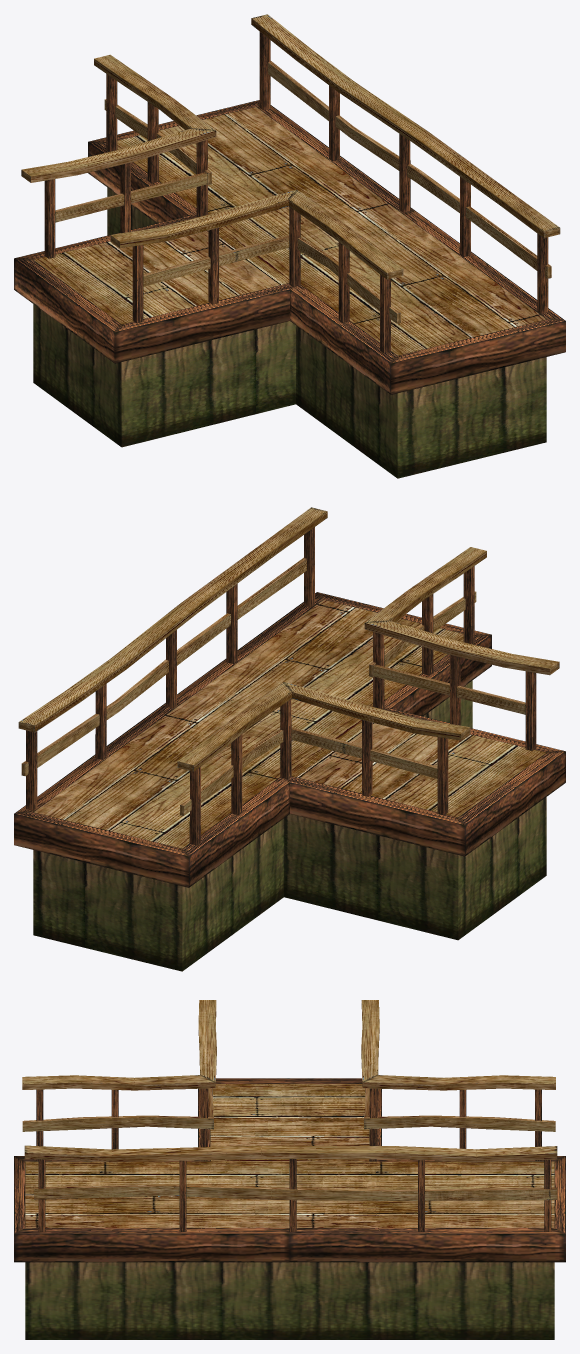
File: INST_WH2_T_BLOCK.fbx
3 renders of one model, top to bottom at view 1: azimuth 30°, elevation 25°; view 2: azimuth 150°, elevation 25°; view 3: azimuth 270°, elevation 25°, orthographic. The views are drawn at different scales.
Parts seen in each view (by area): view 1: INST_WH2_T_BLOCK; view 2: INST_WH2_T_BLOCK; view 3: INST_WH2_T_BLOCK.
Boxes of the visible parts, <box> form: INST_WH2_T_BLOCK: <box>14,14,565,478</box>; INST_WH2_T_BLOCK: <box>14,507,565,971</box>; INST_WH2_T_BLOCK: <box>14,1000,565,1339</box>.
Size of the model in its own units: 40292 by 23135 by 60000.
4 materials, 4 textured.
